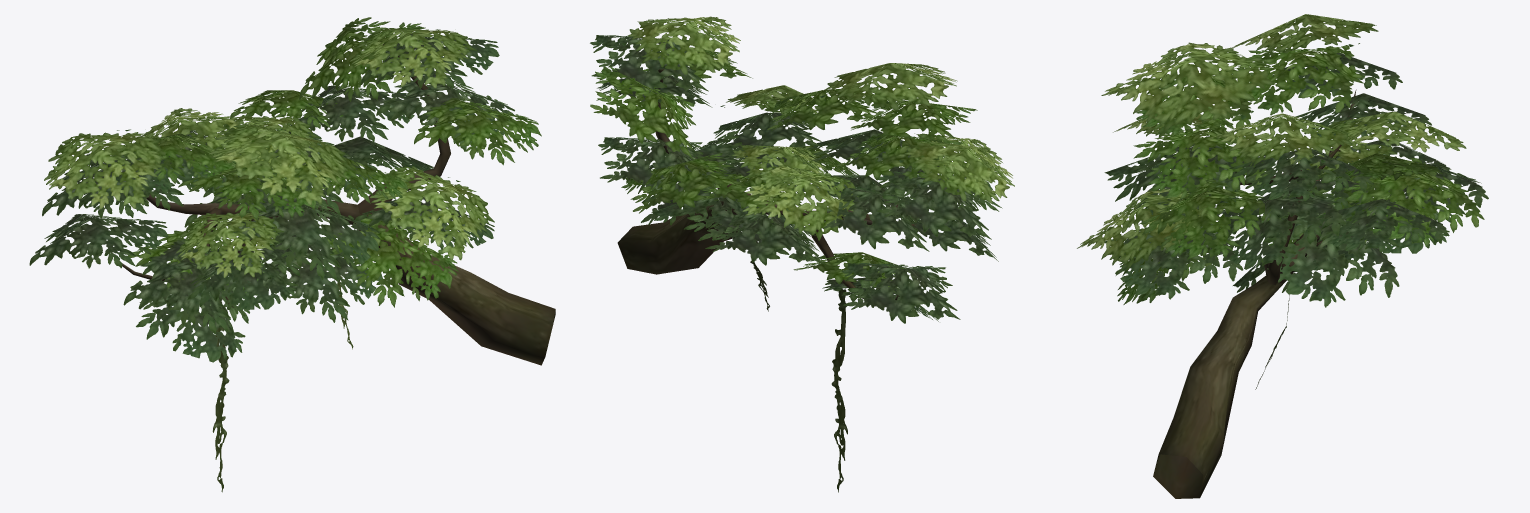
Rendered from S_Tree_Green131.FBX.
3 renders of one model, left to right at view 1: azimuth 30°, elevation 25°; view 2: azimuth 150°, elevation 25°; view 3: azimuth 270°, elevation 25°, orthographic. The views are drawn at different scales.
Parts seen in each view (by area): view 1: S_Tree_Green131_2, S_Tree_Green131_1; view 2: S_Tree_Green131_2, S_Tree_Green131_1; view 3: S_Tree_Green131_2, S_Tree_Green131_1.
Boxes of the visible parts, <box> form: S_Tree_Green131_2: <box>29,17,541,492</box>; S_Tree_Green131_1: <box>106,44,555,365</box>; S_Tree_Green131_2: <box>590,16,1014,492</box>; S_Tree_Green131_1: <box>617,69,916,306</box>; S_Tree_Green131_2: <box>1077,14,1488,389</box>; S_Tree_Green131_1: <box>1153,89,1356,498</box>.
Bounding box in the file's own units: 250 × 218 × 192.
